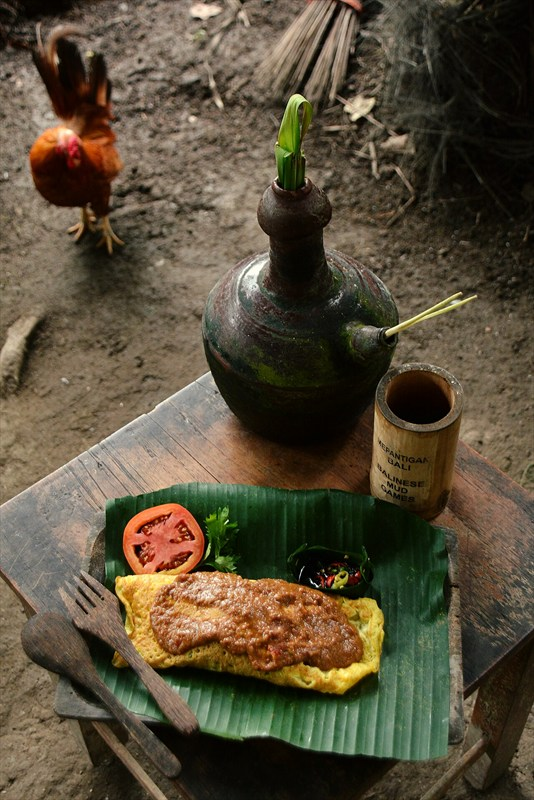Nasi Goreng: (35, 25, 403, 735)
